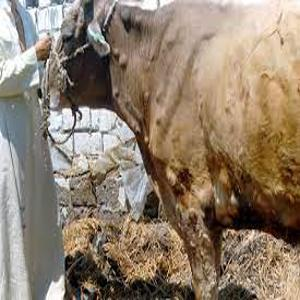lumpy skin diesease: (42, 0, 299, 299)
